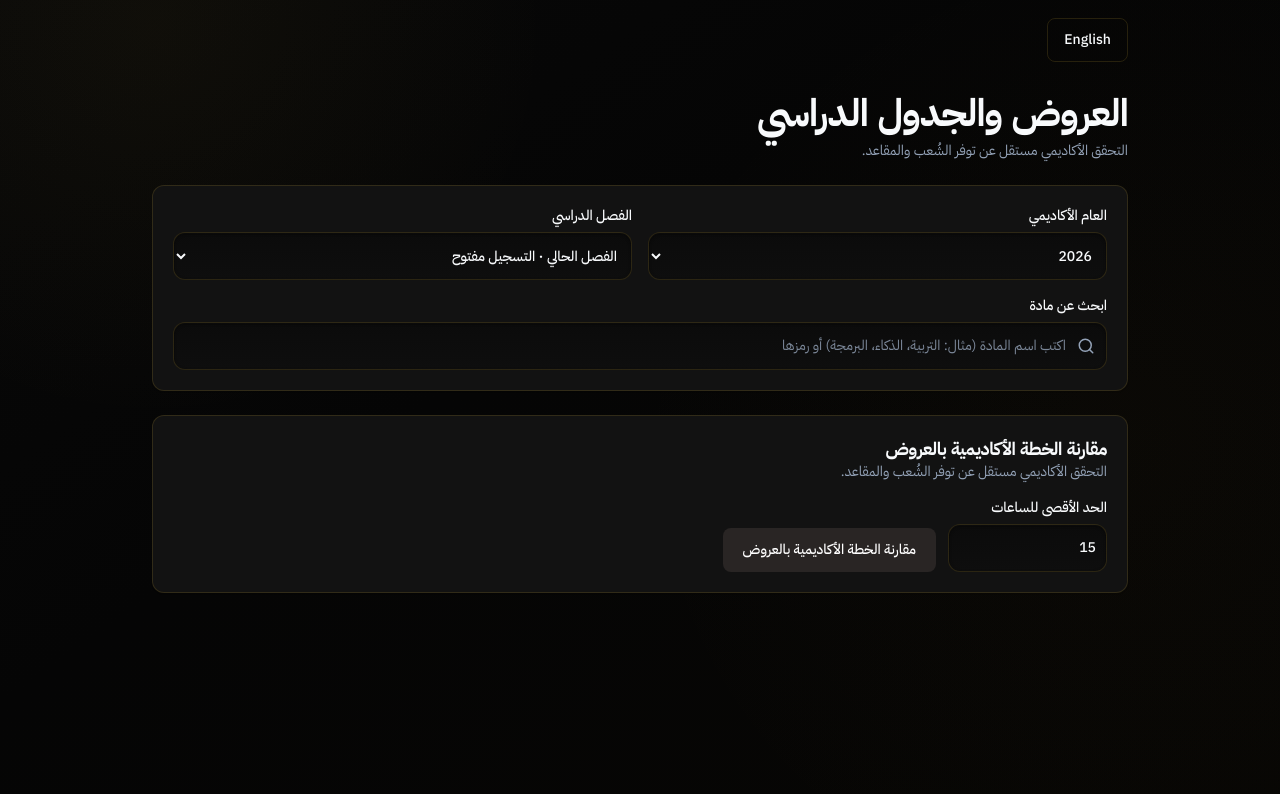
explicit planner overlay preserves academic rank and displays typed conflicts
What coordinates should you click on to do the following:
click the button "مقارنة الخطة الأكاديمية بالعروض"
I would click on:
 (829, 550)
Its box is top-left (723, 528), bottom-right (936, 572).
(page scrolled)
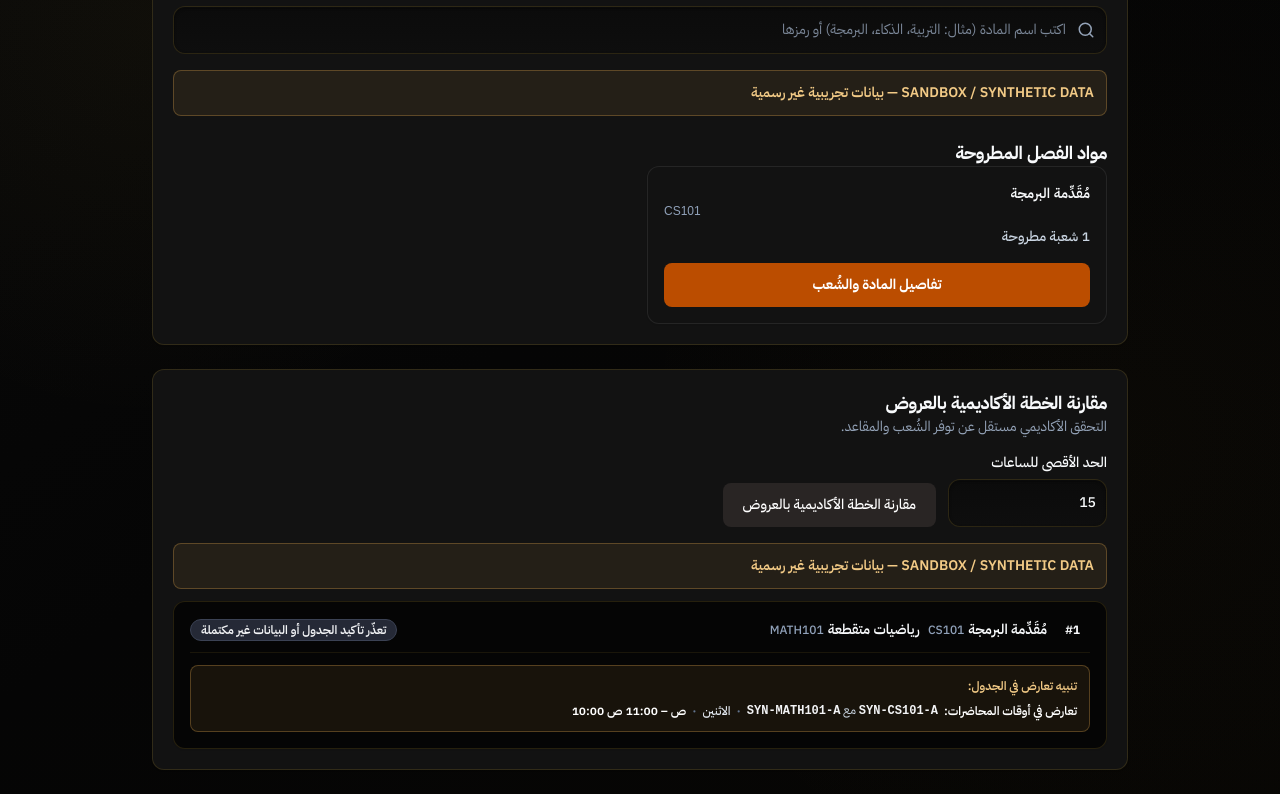
Expected: the text "تعارض في أوقات المحاضرات" shows "SYN-MATH101-A", top-left (747, 704), bottom-right (840, 718)
Expected: the text "تعارض في أوقات المحاضرات" shows "الاثنين", top-left (702, 702), bottom-right (730, 720)
Expected: the text "تعارض في أوقات المحاضرات" shows "10:00 ص – 11:00 ص", top-left (572, 701), bottom-right (1077, 720)
